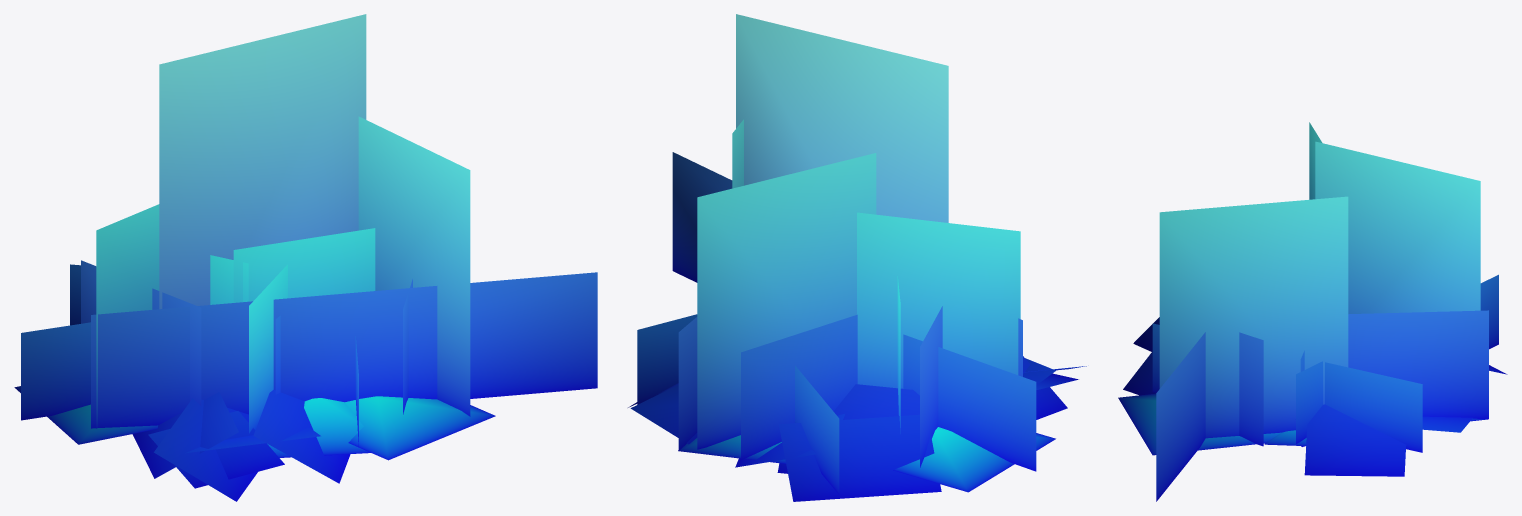
File: SM_Env_Ground_Cover_03.FBX
3 views of the same model, side by side, from view 1: azimuth 30°, elevation 25°; view 2: azimuth 150°, elevation 25°; view 3: azimuth 270°, elevation 25° (orthographic). The views are drawn at different scales.
Parts seen in each view (by area): view 1: SM_Env_Ground_Cover_03; view 2: SM_Env_Ground_Cover_03; view 3: SM_Env_Ground_Cover_03.
Part boxes in pixels (bbox=[...]): SM_Env_Ground_Cover_03: bbox=[14, 14, 597, 501]; SM_Env_Ground_Cover_03: bbox=[628, 14, 1086, 501]; SM_Env_Ground_Cover_03: bbox=[1118, 122, 1507, 501].
Size of the model in its own units: 208 by 161 by 160.
